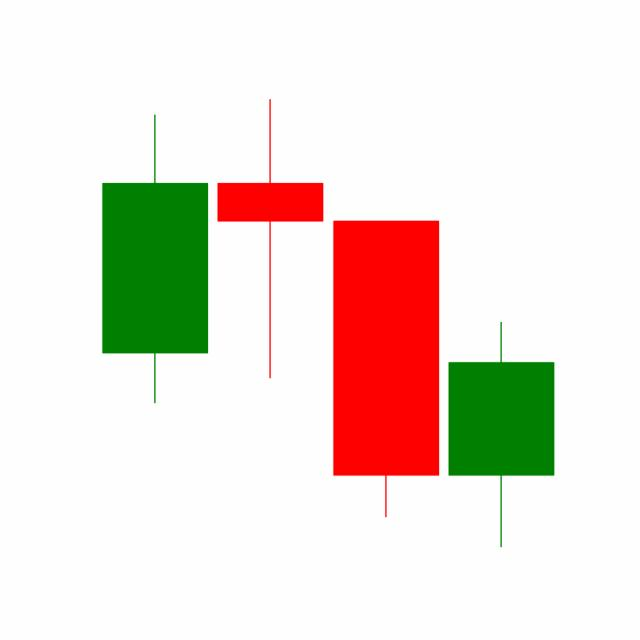Marubozu: (328, 217, 444, 520)
